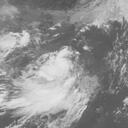cyclone: (8, 50, 91, 120)
